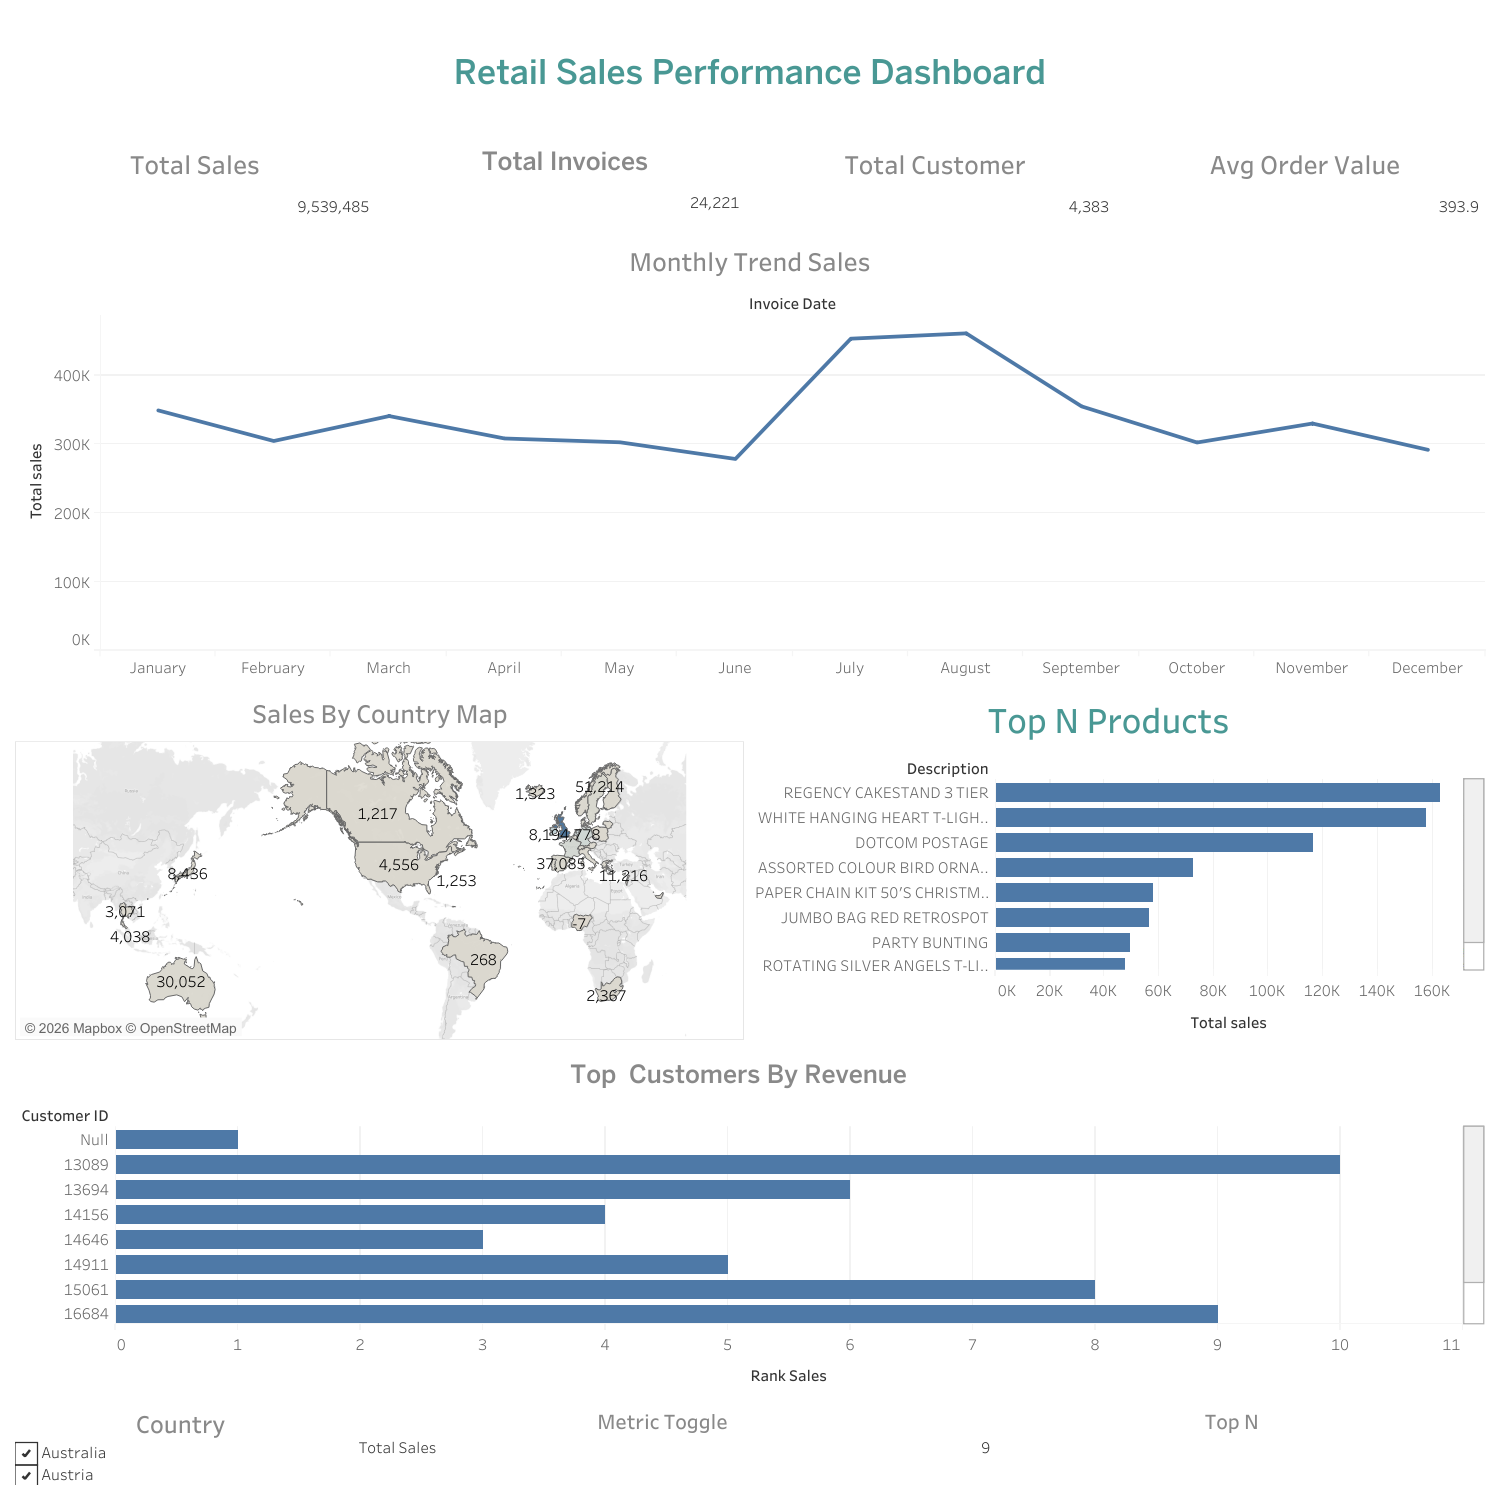

The dashboard page shown, as its layout file describes it:
{"tool":"tableau","page":{"name":"Final Executive Dashboard","canvas":[1200,1200],"ordinal":3},"visuals":[{"type":"text","box":[8,8,1184,98.6]},{"type":"worksheet","title":"1.Total sales","mark":"Text","box":[8,106.6,296,75]},{"type":"worksheet","title":"1.total invoice","mark":"Text","box":[304,106.6,296,76]},{"type":"worksheet","title":"1.total customer","mark":"Text","box":[600,106.6,296,78.4]},{"type":"worksheet","title":"1.AOV","mark":"Text","box":[896,106.6,296,78.4]},{"type":"worksheet","title":"3.Monthly trend sales","mark":"Line","rows":["Calculation_124693463261769728"],"cols":["InvoiceDate"],"box":[8,185,1184,360.7]},{"type":"worksheet","title":"4.  country map","mark":"Automatic","box":[8,545.7,592,291.5]},{"type":"worksheet","title":"14.Top N Products Parameter","mark":"Automatic","rows":["Description"],"cols":["Calculation_124693463261769728"],"box":[600,545.7,592,291.5]},{"type":"worksheet","title":"9. Top Customers by Revenue","mark":"Automatic","rows":["CustomerID"],"box":[8,837.2,1184,282.8]},{"type":"filter","title":"4.  country map","param":"[federated.0f7ltpv0z8177814a7dwu1ojk374].[none:Country:nk]","box":[8,1120,273,72]},{"type":"parameter","param":"[Parameters].[Parameter 2]","box":[281,1120,498,72]},{"type":"parameter","param":"[Parameters].[Parameter 1]","box":[779,1120,413,72]}]}

Visuals, with their boxes in screenshot pixels (x1, y1, x2, y2), scaled from the page's 1200x1200 canvas onto the 1499x1499 screenshot:
text: x1=10 y1=10 x2=1489 y2=133
"1.Total sales" worksheet (Text marks): x1=10 y1=133 x2=380 y2=227
"1.total invoice" worksheet (Text marks): x1=380 y1=133 x2=750 y2=228
"1.total customer" worksheet (Text marks): x1=750 y1=133 x2=1119 y2=231
"1.AOV" worksheet (Text marks): x1=1119 y1=133 x2=1489 y2=231
"3.Monthly trend sales" worksheet (Line marks): x1=10 y1=231 x2=1489 y2=682
"4.  country map" worksheet: x1=10 y1=682 x2=750 y2=1046
"14.Top N Products Parameter" worksheet: x1=750 y1=682 x2=1489 y2=1046
"9. Top Customers by Revenue" worksheet: x1=10 y1=1046 x2=1489 y2=1399
"4.  country map" filter: x1=10 y1=1399 x2=351 y2=1489
parameter: x1=351 y1=1399 x2=973 y2=1489
parameter: x1=973 y1=1399 x2=1489 y2=1489
